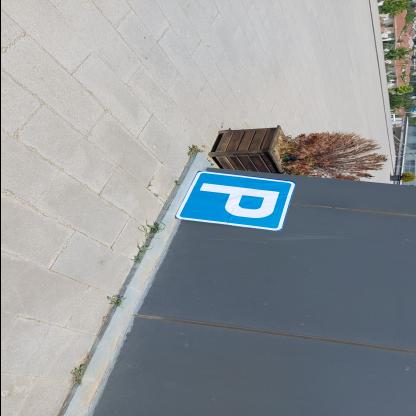Parking-Sign: (176, 172, 297, 232)
